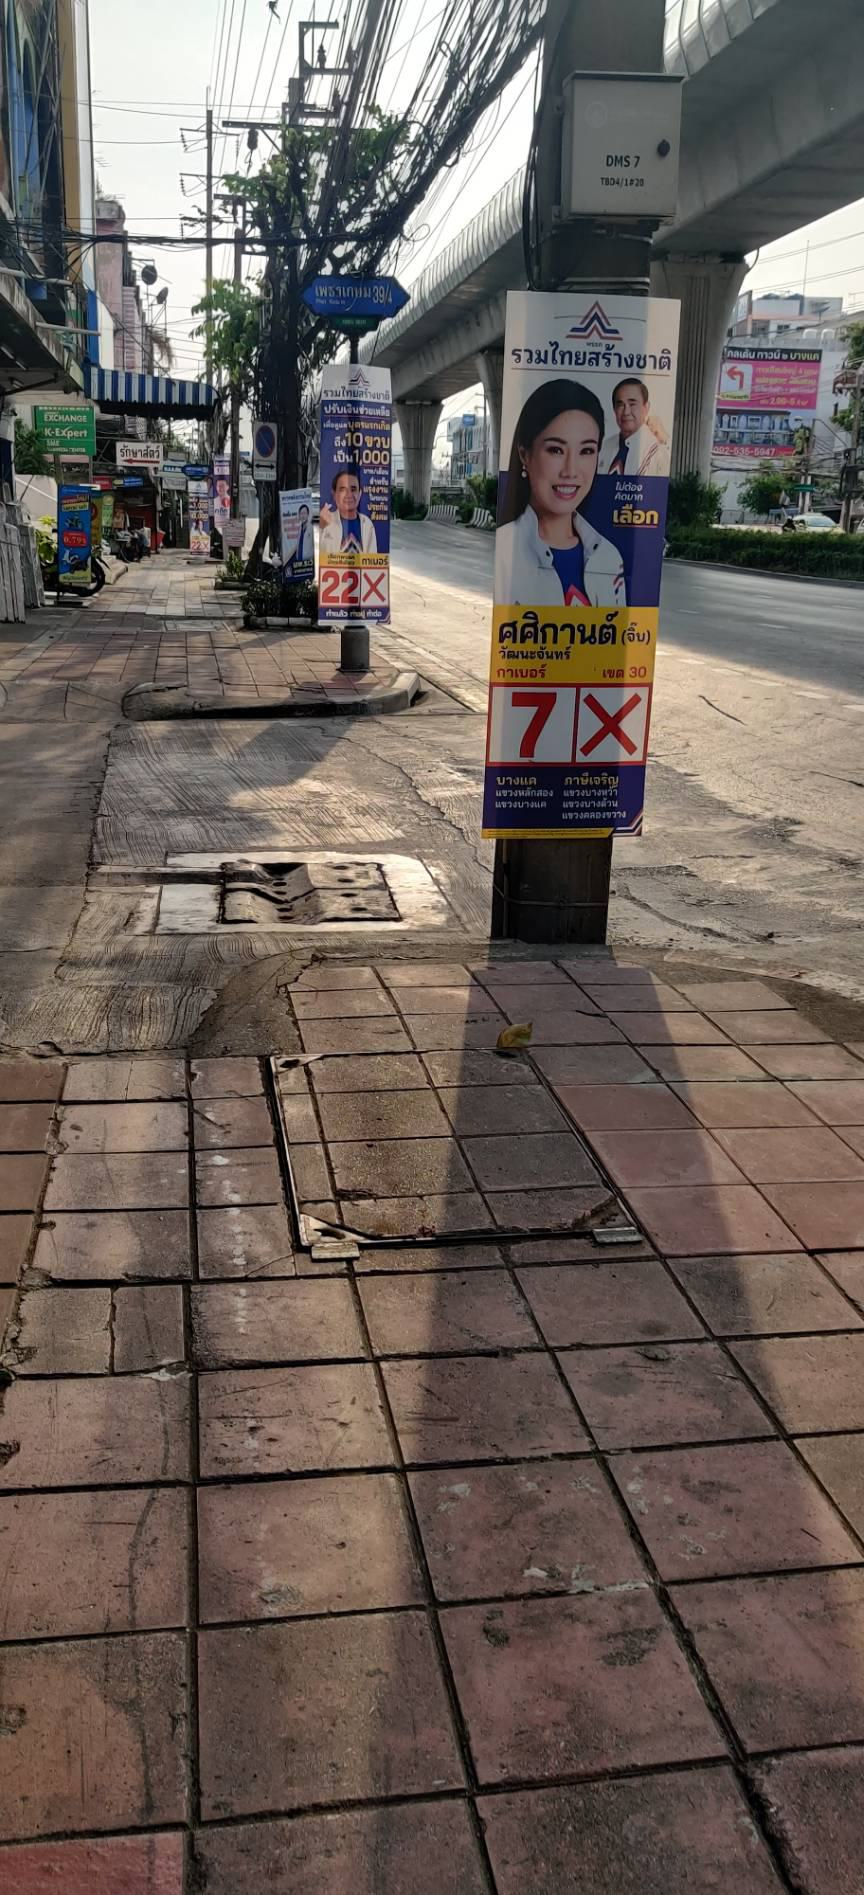Banner: (483, 286, 672, 838), (317, 363, 395, 624)
